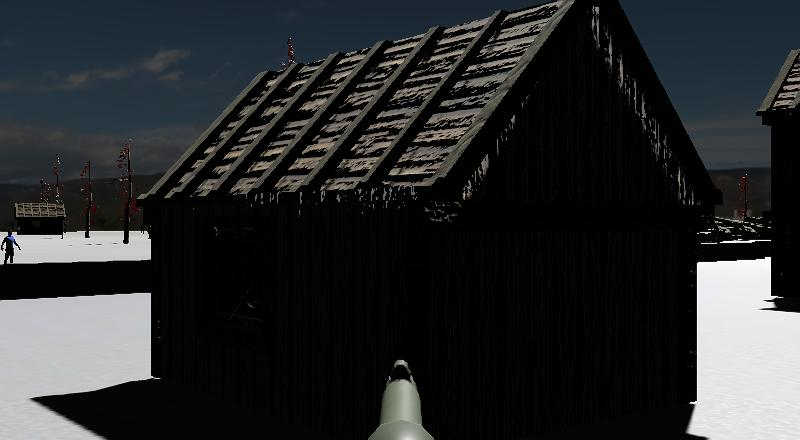House: (95, 0, 721, 440), (741, 14, 800, 393), (7, 191, 74, 243)
Human: (0, 222, 26, 270)
